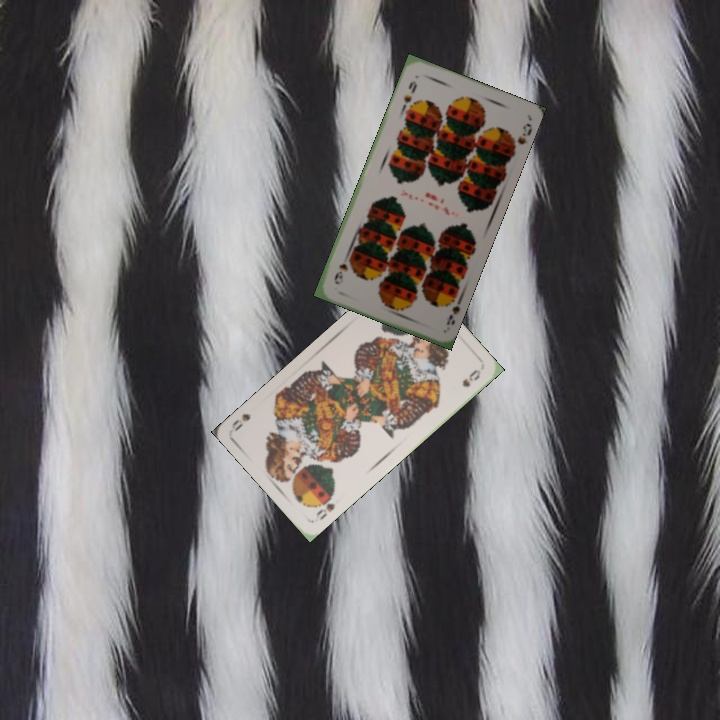S9: (442, 291, 465, 328), (398, 77, 420, 113)
SO: (312, 489, 338, 522)
